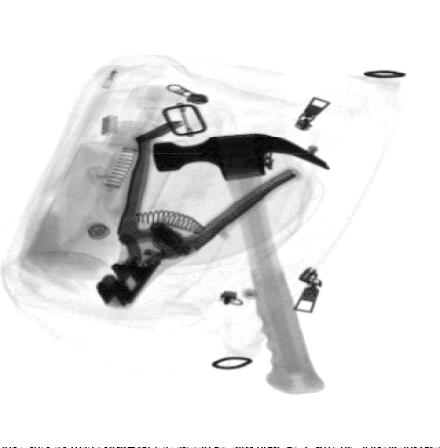Hammer: (151, 132, 329, 396)
Pliers: (94, 132, 300, 310)
